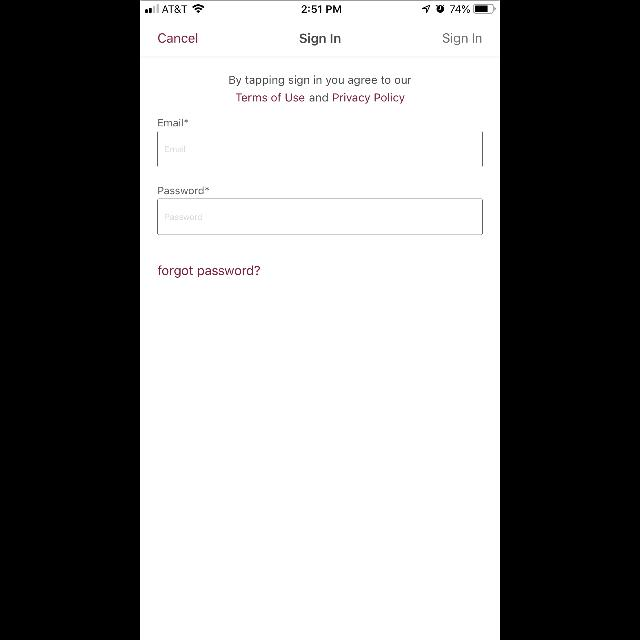input: (158, 199, 482, 235), (158, 131, 482, 167)
text: (229, 76, 411, 104), (158, 266, 260, 278), (300, 32, 340, 46), (442, 33, 482, 45), (158, 187, 210, 195), (158, 33, 198, 43), (158, 119, 188, 127), (164, 214, 202, 220), (165, 146, 185, 152)
uppertaskbar: (140, 0, 500, 14)
